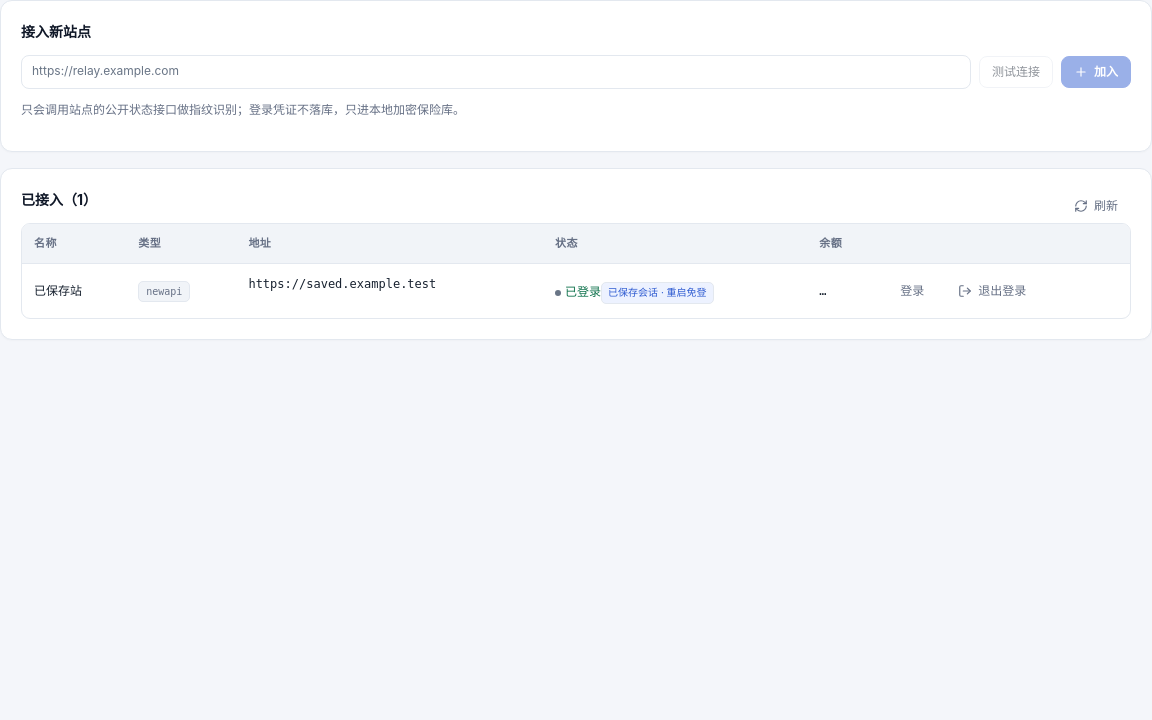
it: Sites 会话持久化徽标与退出登录（M38-S1） › ④ 退出接口 reject ⇒ 显示错误，行内按钮恢复可用
Click the button "退出登录" at point(992, 291), box [945,275,1039,307]
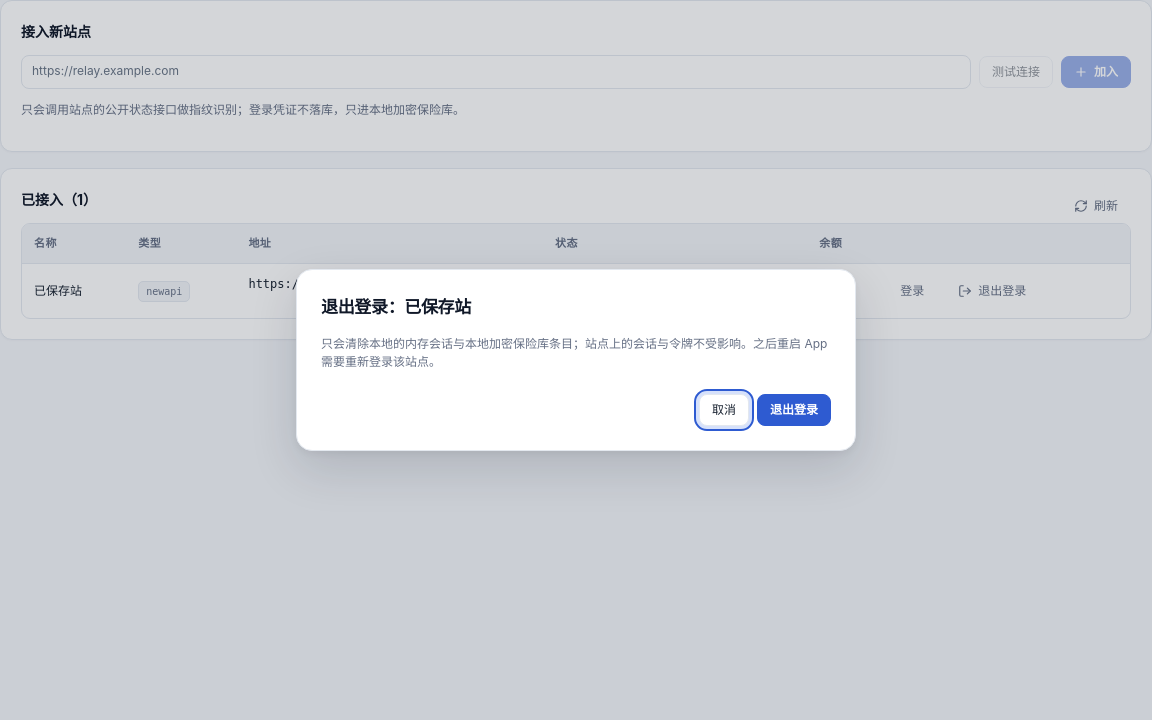
Click the button "退出登录" at point(794, 410), box [757,394,831,426]
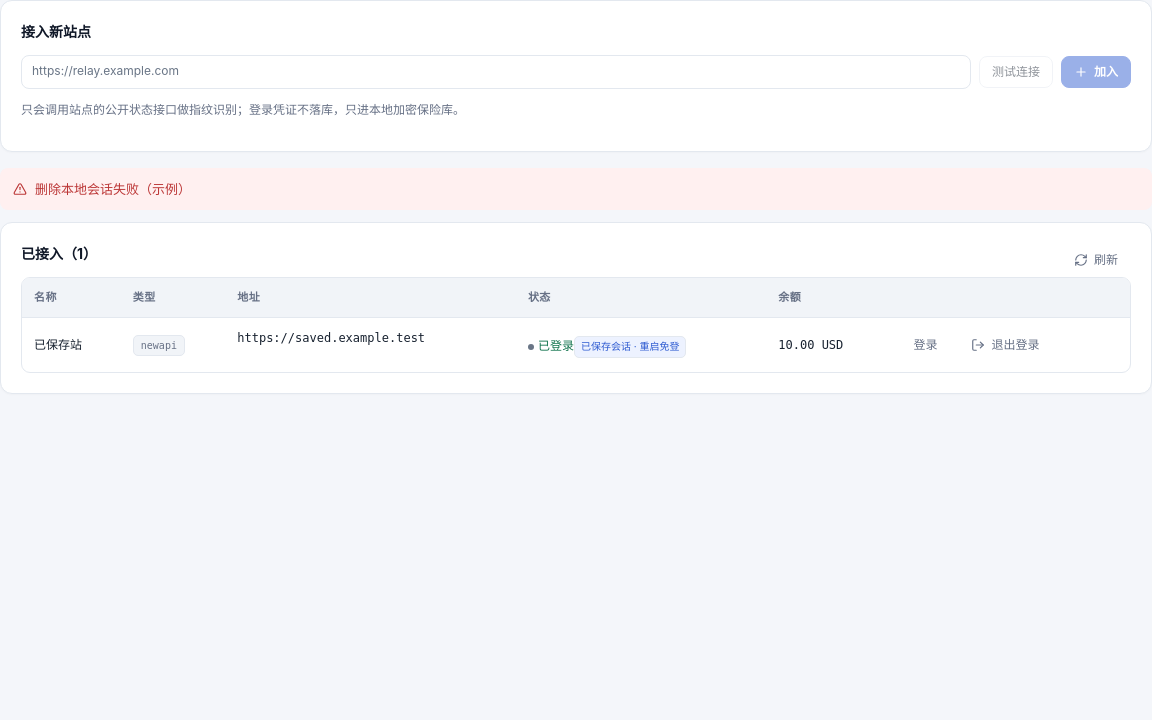
expect the button "退出登录" is enabled: met, box [958,329,1052,361]
expect the message reads "删除本地会话失败（示例）": met, box [35,181,191,197]
expect the dialog is gone: met
